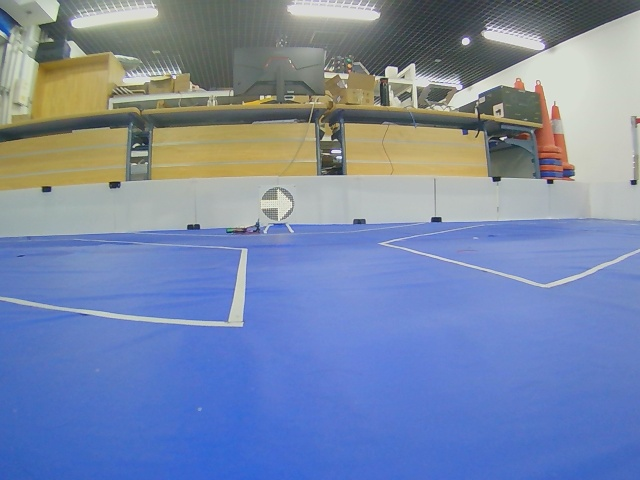right_yellow: (260, 187, 295, 222)
